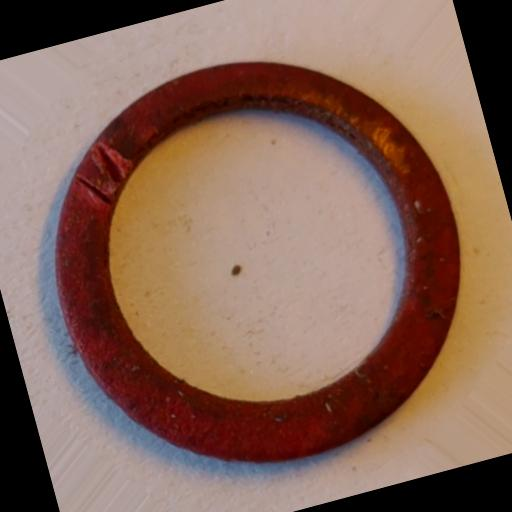defect: (64, 131, 143, 214)
